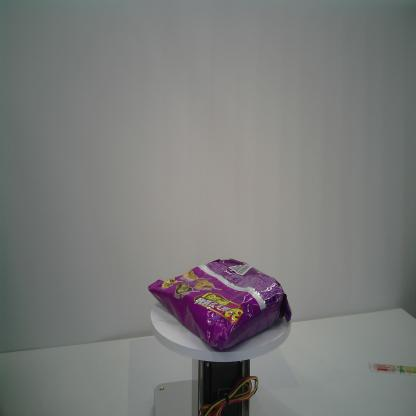Instant Noodles: (148, 258, 292, 350)
